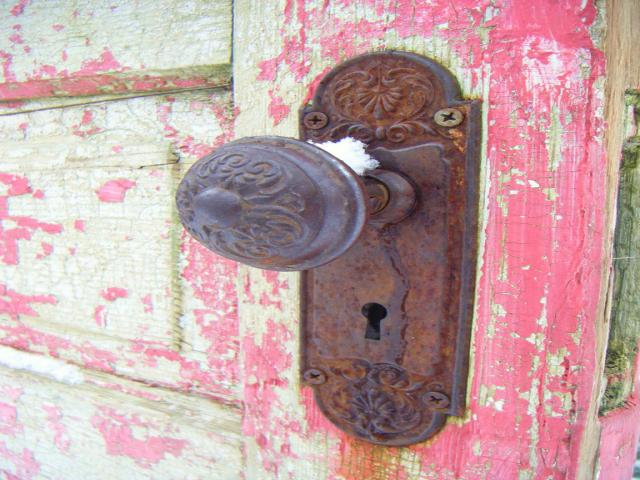Door-handle: (166, 47, 484, 448)
